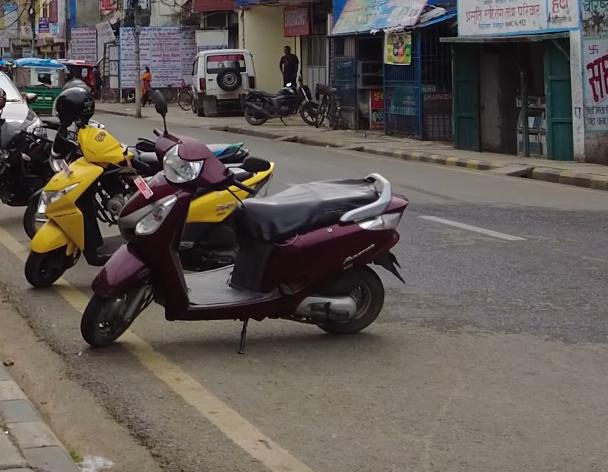ambulance: (191, 47, 257, 115)
bike: (236, 75, 324, 129)
scooter: (78, 86, 422, 356), (28, 114, 272, 276)
